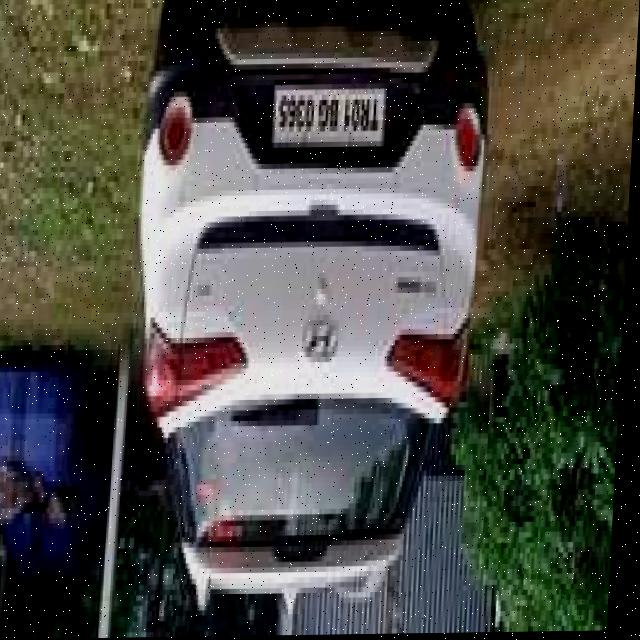plate: (272, 81, 389, 150)
